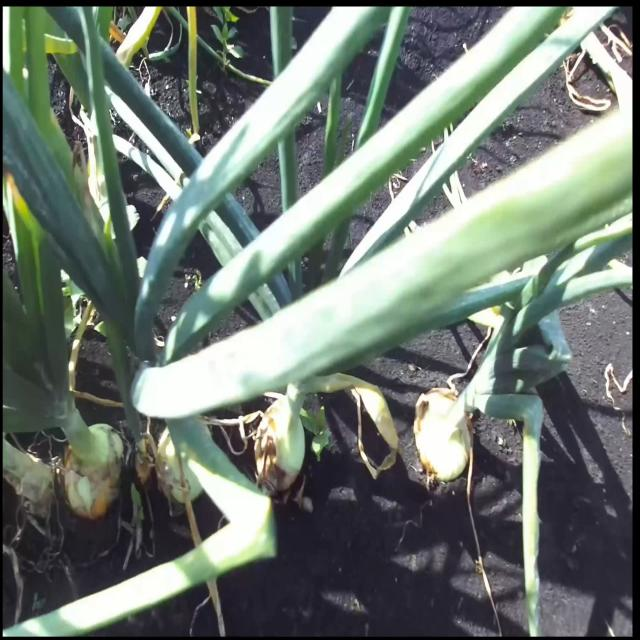onion: (63, 423, 124, 521), (413, 386, 473, 484), (253, 386, 306, 496), (155, 425, 204, 506)
